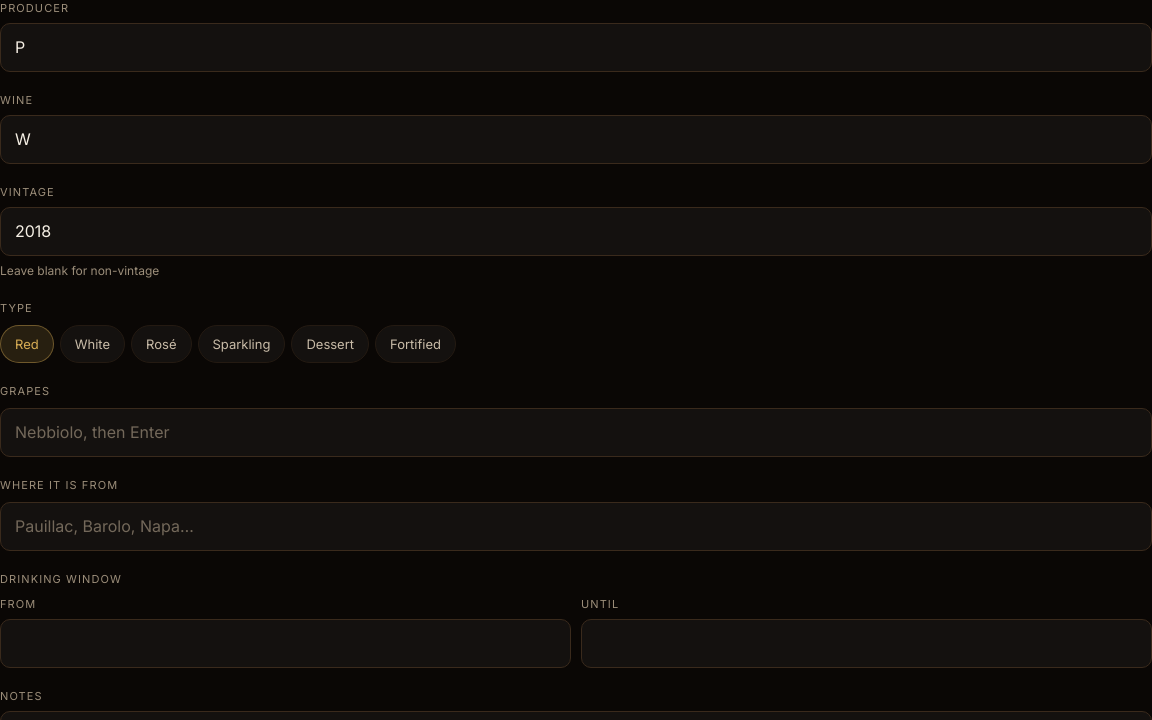
Test: ONLINE failure: the RPC rejects and the UI says nothing was saved › shows NOT_SAVED and leaves no optimistic state behind
The image size is (1152, 720).
Replace the text in the field labelled "Wine" with "Changed Name": (576, 139) [0,115,1151,164]
(page scrolled)
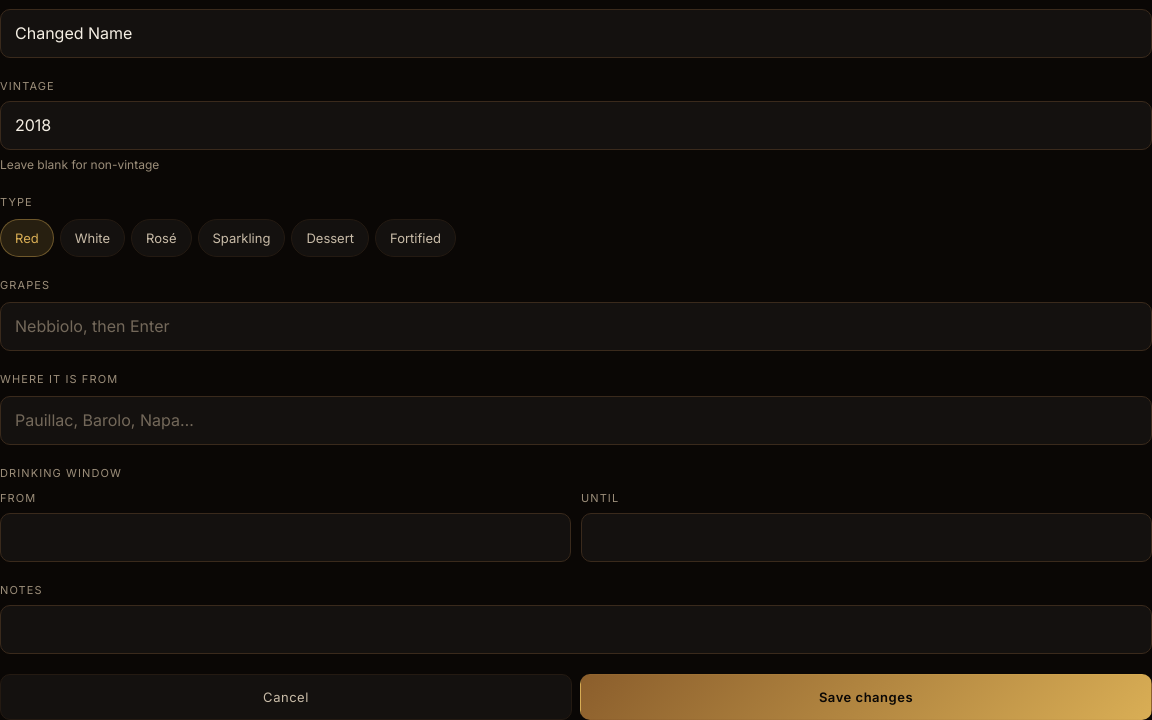
Click the button "Save changes": (866, 697) [580,674,1151,719]
(page scrolled)
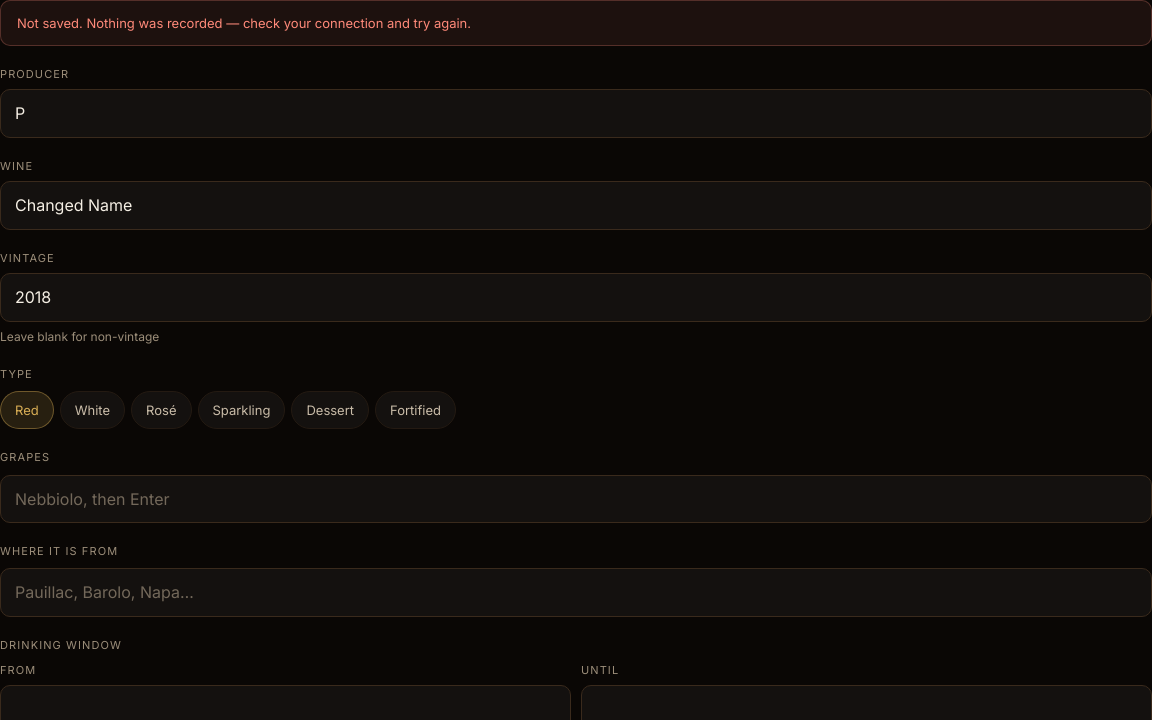
Expected: the text "Not saved. Nothing was recorded — check your connection and try again." is shown, [0,0,1151,46]
Expected: the message reads "Not saved. Nothing was recorded — check your connection and try again.", [17,15,471,31]
